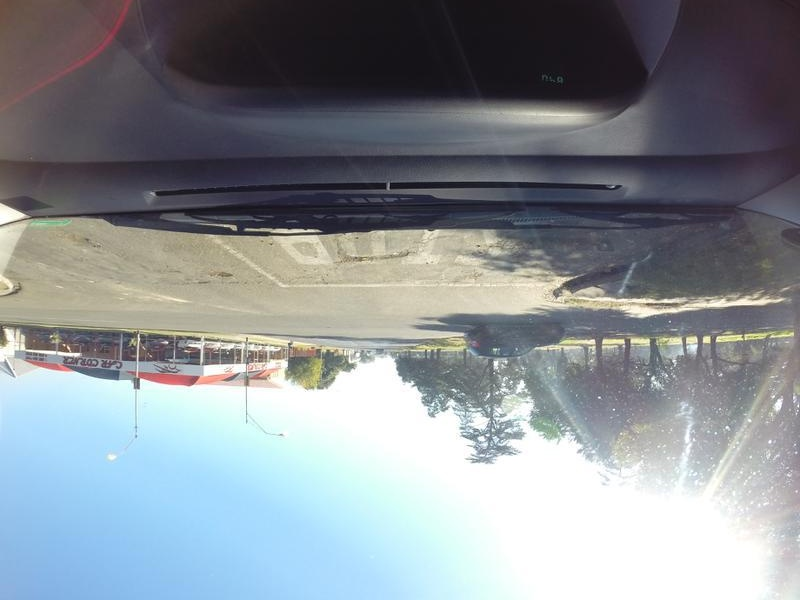pothole: (462, 231, 602, 254), (324, 246, 412, 269), (58, 227, 99, 255), (499, 268, 546, 285), (207, 265, 239, 288), (437, 271, 481, 285), (190, 268, 204, 291)
